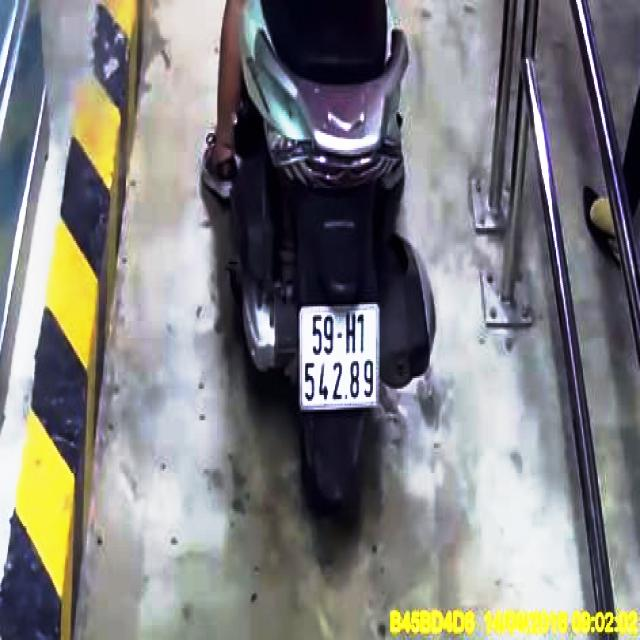license_plate: (301, 306, 379, 413)
